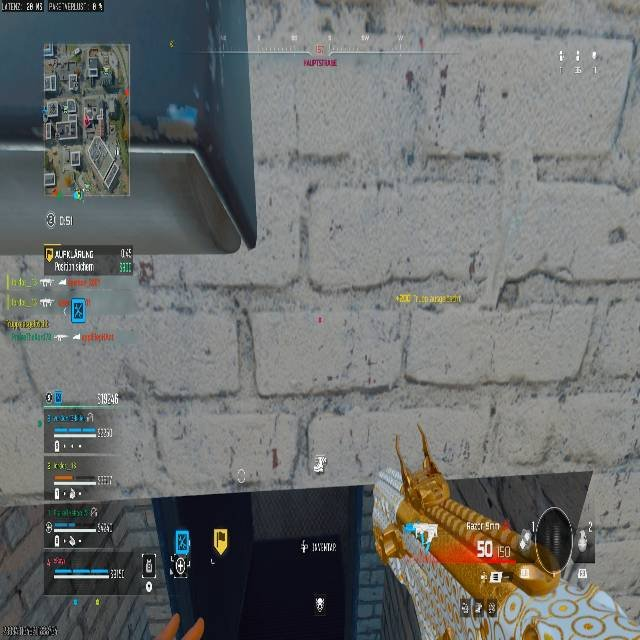head: (515, 506, 578, 580)
